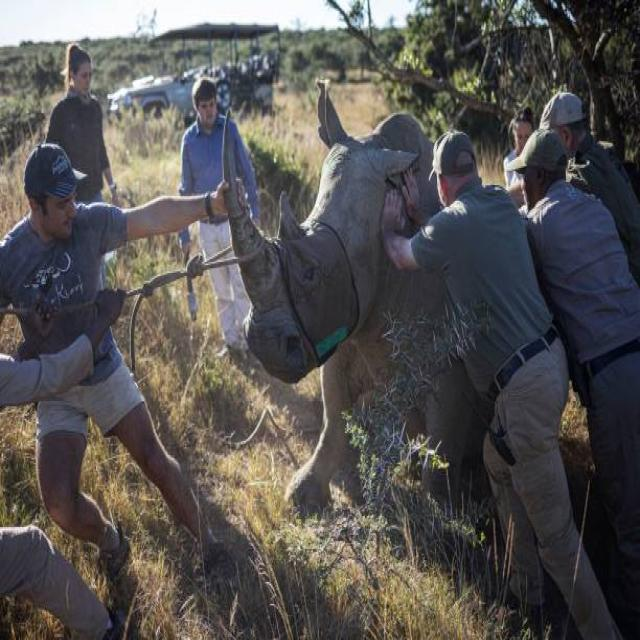ranger: (414, 103, 546, 537), (28, 129, 140, 477), (556, 94, 628, 441), (146, 58, 239, 280)
rhino: (219, 89, 445, 399)
